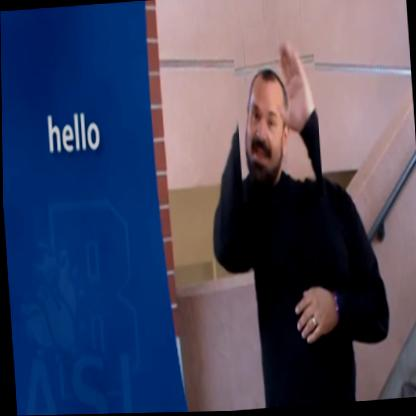Hello: (232, 24, 323, 203)
